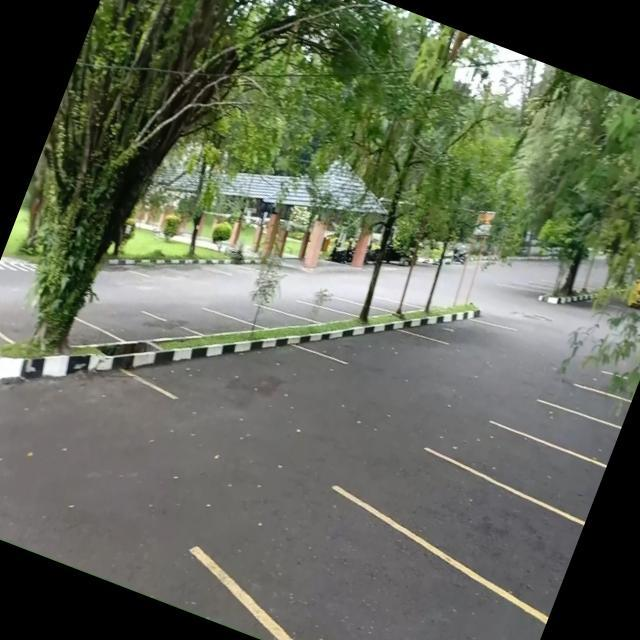empty: (276, 504, 558, 640), (382, 444, 590, 604), (182, 312, 322, 440), (480, 422, 608, 526), (340, 312, 430, 394), (524, 395, 622, 469), (92, 295, 172, 356), (164, 292, 242, 350), (290, 295, 344, 333), (247, 300, 298, 340)
